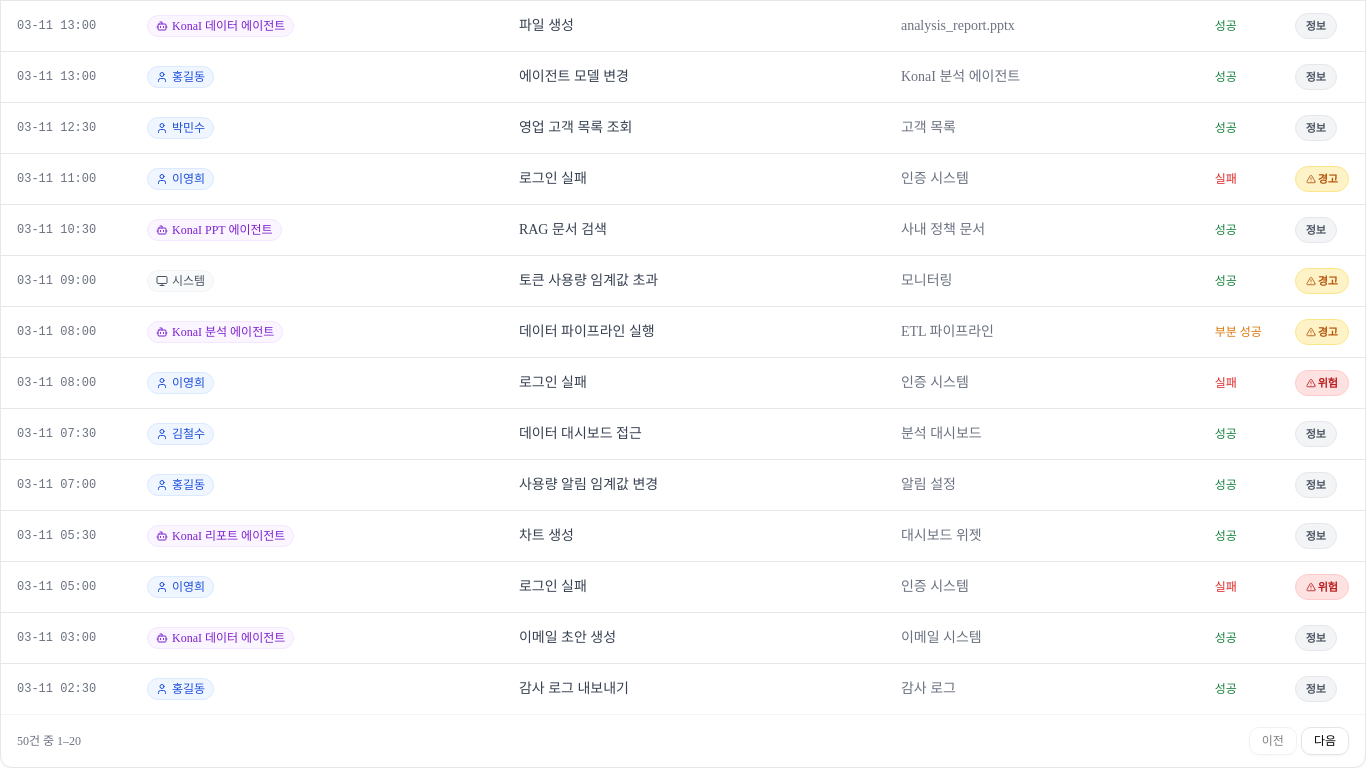
Test: AuditLogView — QA Edge Cases › Pagination boundary › "이전" button is enabled after navigating past page 1
(page scrolled)
Click the button "다음".
click(1325, 741)  # box 1301,727 -> 1349,755
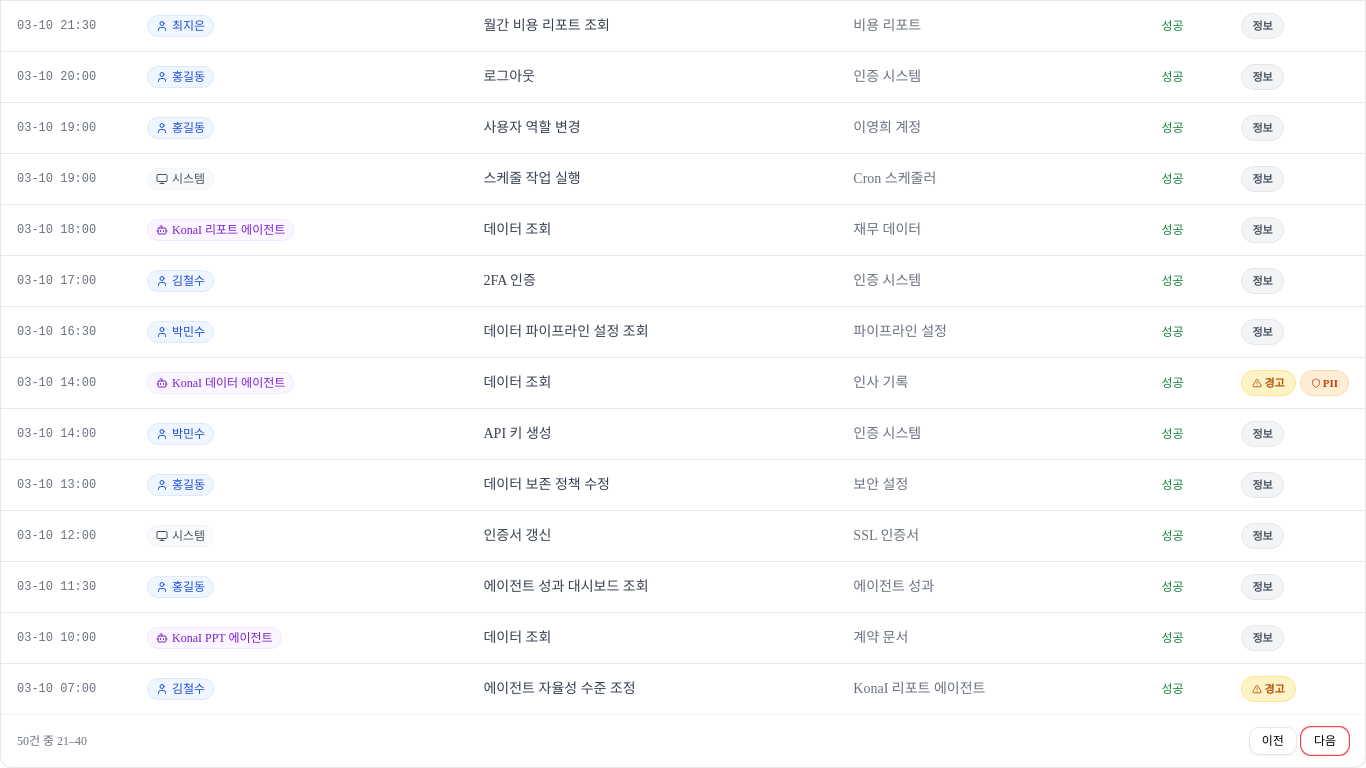
Result: the button "이전" is enabled at 1249,727 -> 1297,755
